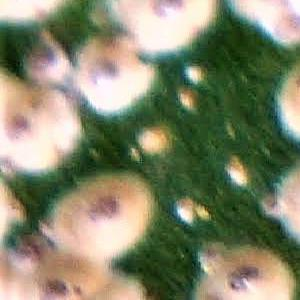Femea: (62, 184, 142, 246), (128, 0, 212, 44), (0, 99, 57, 156), (204, 255, 274, 298), (80, 49, 132, 101), (7, 241, 44, 276), (26, 43, 58, 74)
Linfa: (127, 129, 177, 156), (222, 152, 250, 194), (176, 196, 211, 227), (181, 61, 205, 89), (177, 89, 202, 111)
